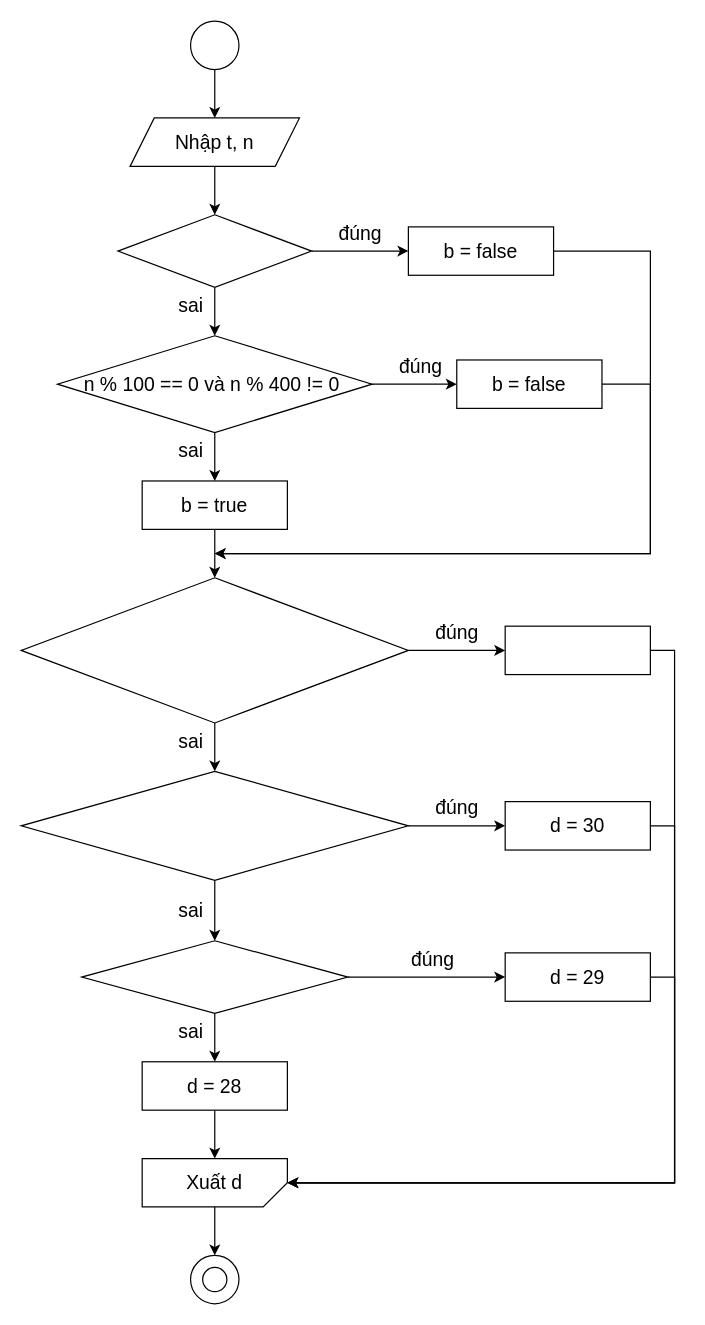
Image size: 705x1325. Some labels were removed from this diagram. The centre of each missing label's shape, as x and y in pixels:
"b == true" belongs at (x=214, y=976).
"d = 31" belongs at (x=577, y=650).
"n % 4 != 0" belongs at (x=214, y=250).
"t == 1 hoặc t == 3 hoặc t == 5 hoặc t == 7 hoặc t == 8 hoặc t == 10 hoặc t == 12" belongs at (x=214, y=650).
"t == 4 hoặc t == 6 hoặc t == 9 hoặc t == 11" belongs at (x=214, y=825).
